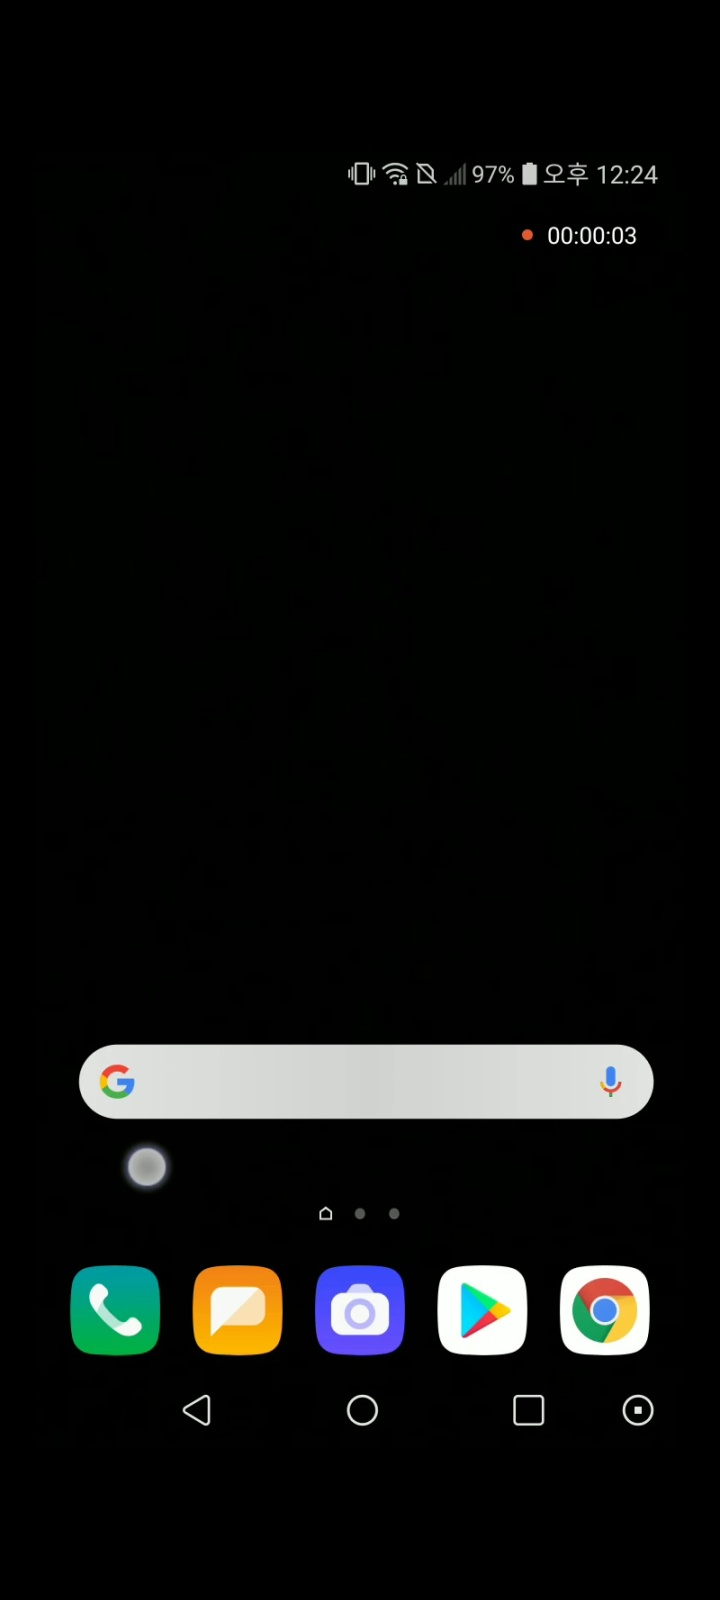Cursor: (125, 1146, 170, 1191)
